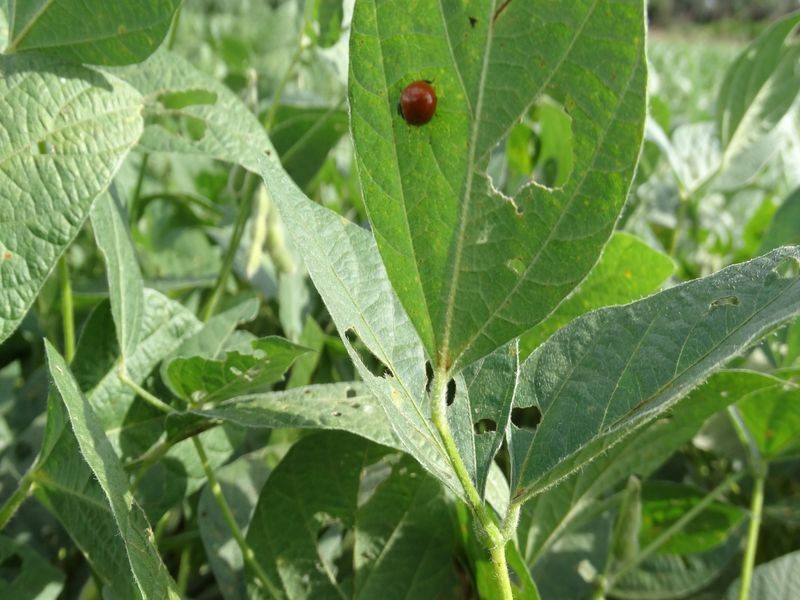Coccinellidae: (379, 68, 456, 141)
